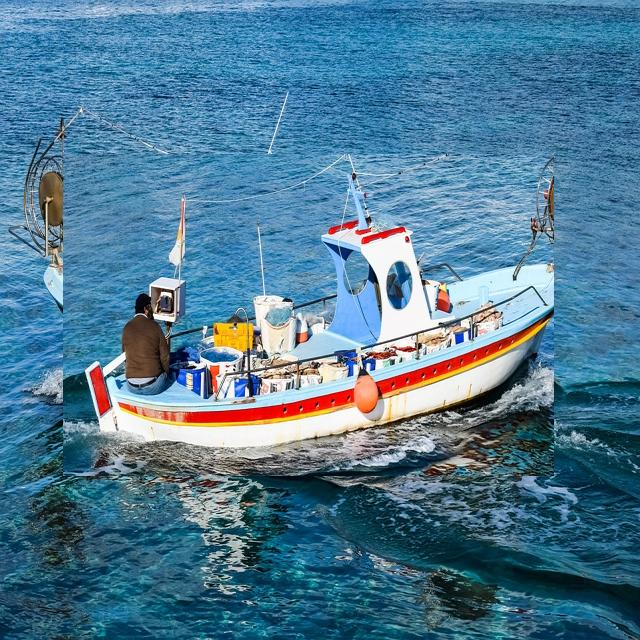Fishing Boat: (63, 154, 554, 476)
